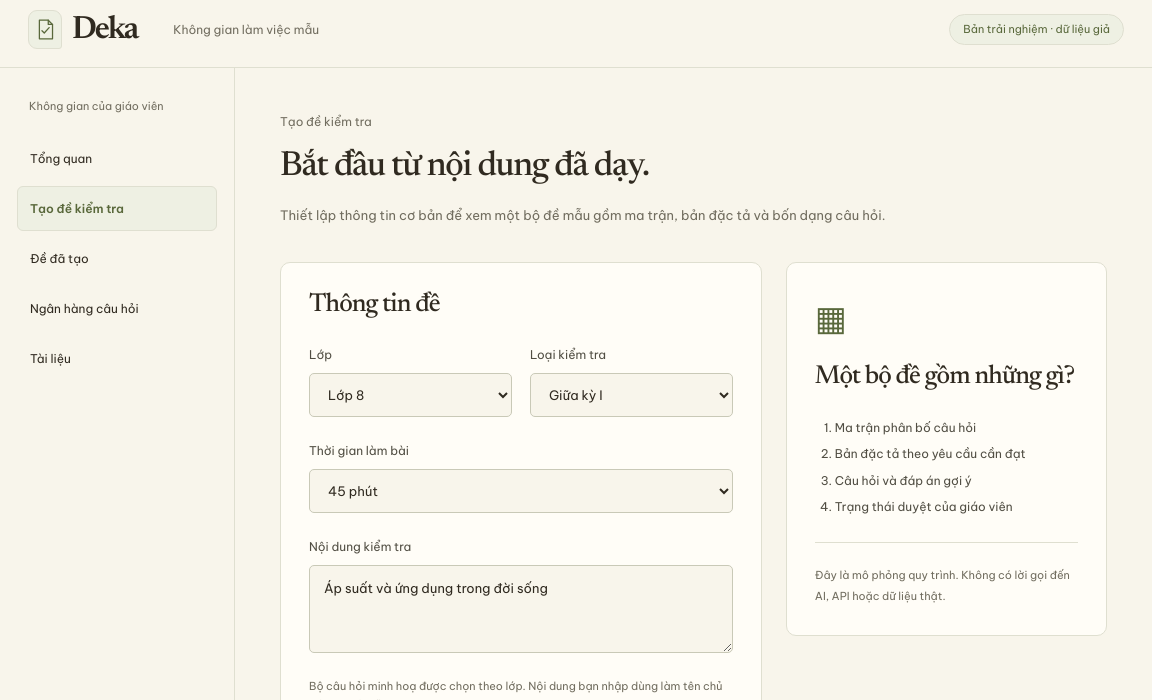
Scenario: public demo workflow › shows a grade 6 matrix that matches the levels of its questions
Select "Lớp 6" in the dropdown labelled "Lớp" at (410, 395), box [309,373,512,417]
(page scrolled)
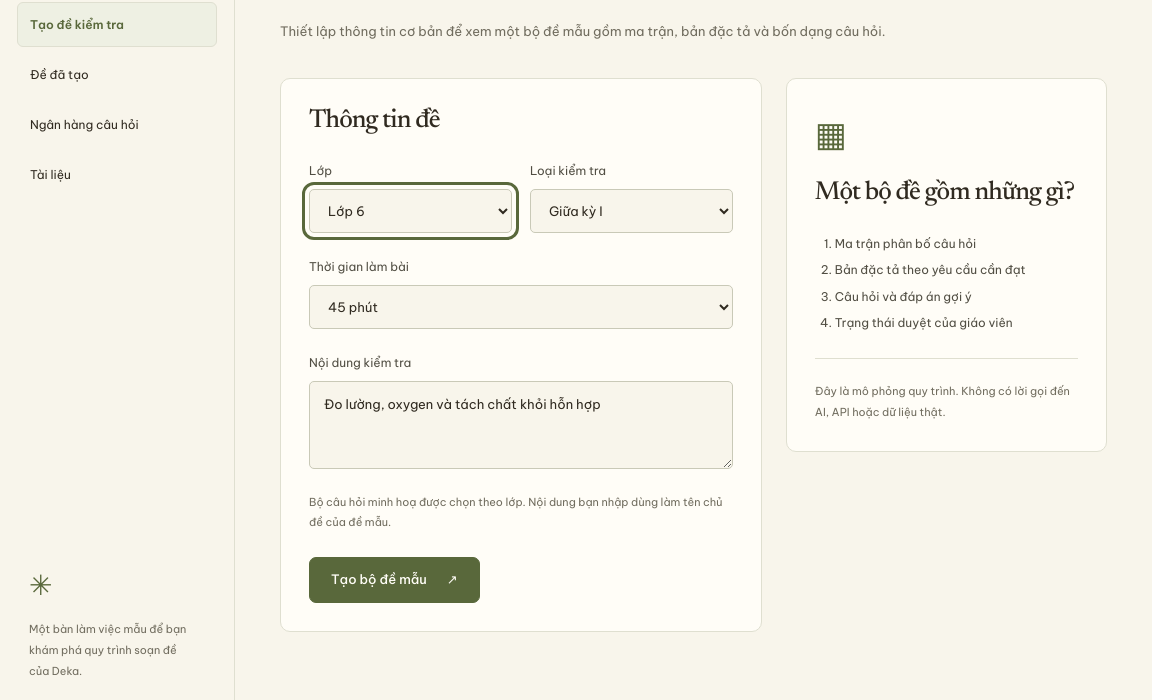
Click the button "Tạo bộ đề mẫu ↗".
click(394, 580)  # box [309,557,480,603]
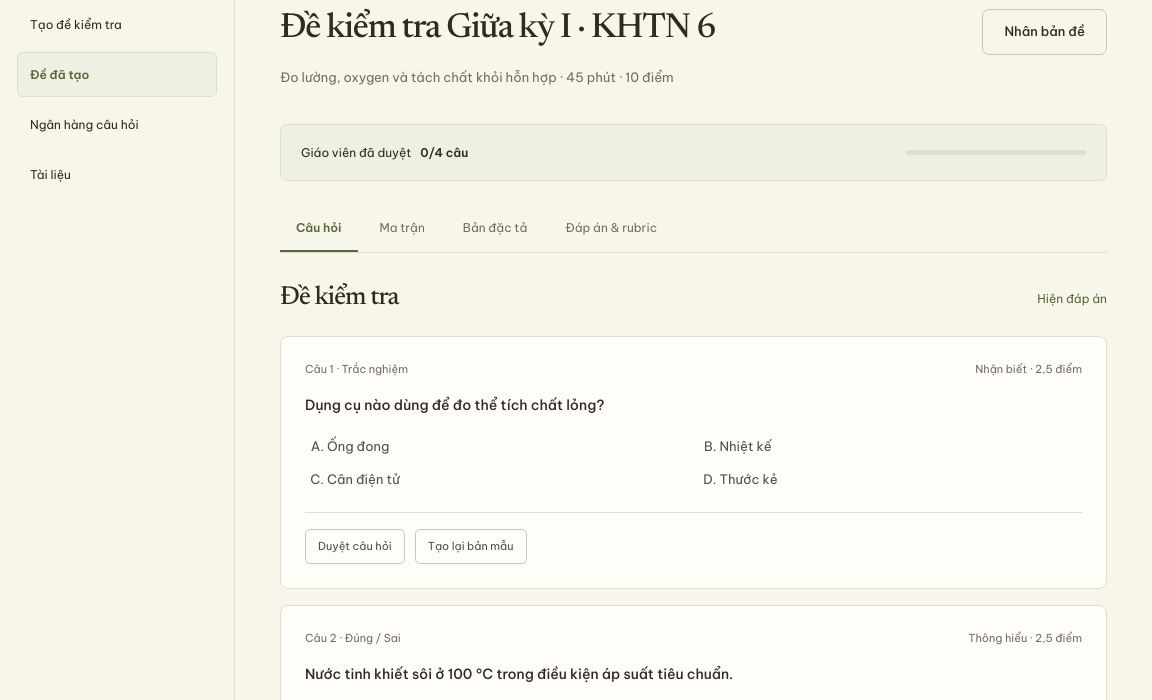
Now the heading "Đề kiểm tra Giữa kỳ I · KHTN 6" is shown, box [280,10,715,50]
Now the text "Nhận biết · 2,5 điểm" is shown once, box [975,361,1082,379]
Now the text "Thông hiểu · 2,5 điểm" is shown 2 times
Click the tab "Ma trận".
click(402, 229)  # box [364,205,441,252]
(page scrolled)
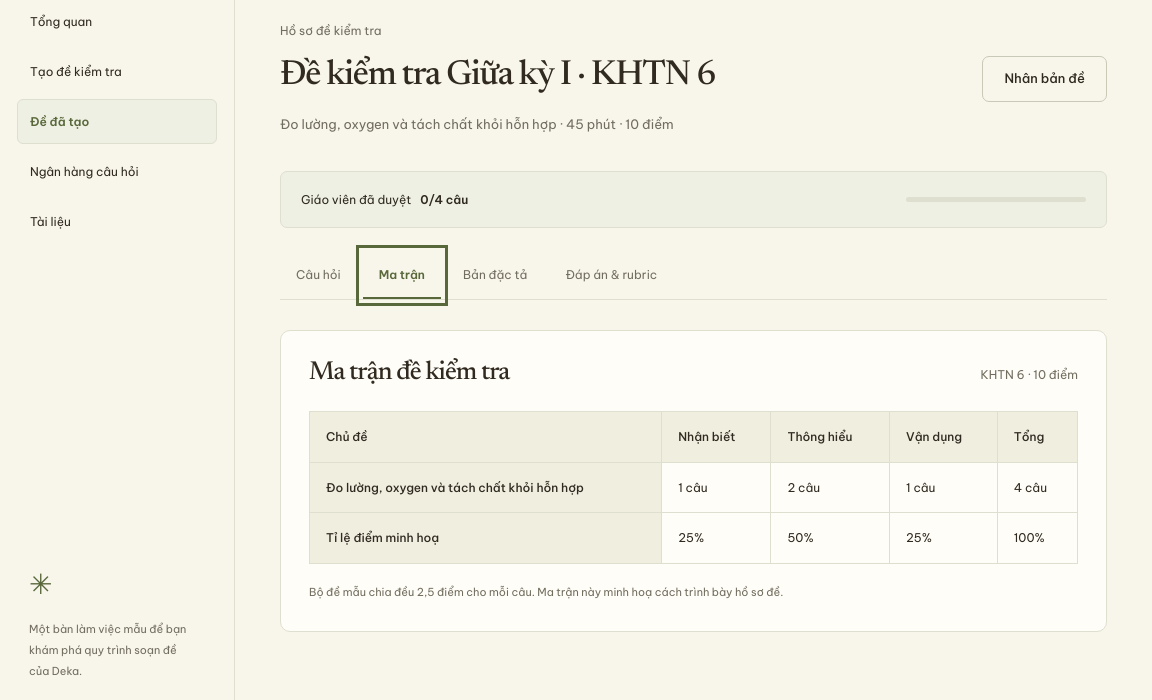
Now the cells read "1 câu", "2 câu", "1 câu", "4 câu", in this order, box [662,462,771,513]; [771,462,890,513]; [890,462,997,513]; [997,462,1078,513]
